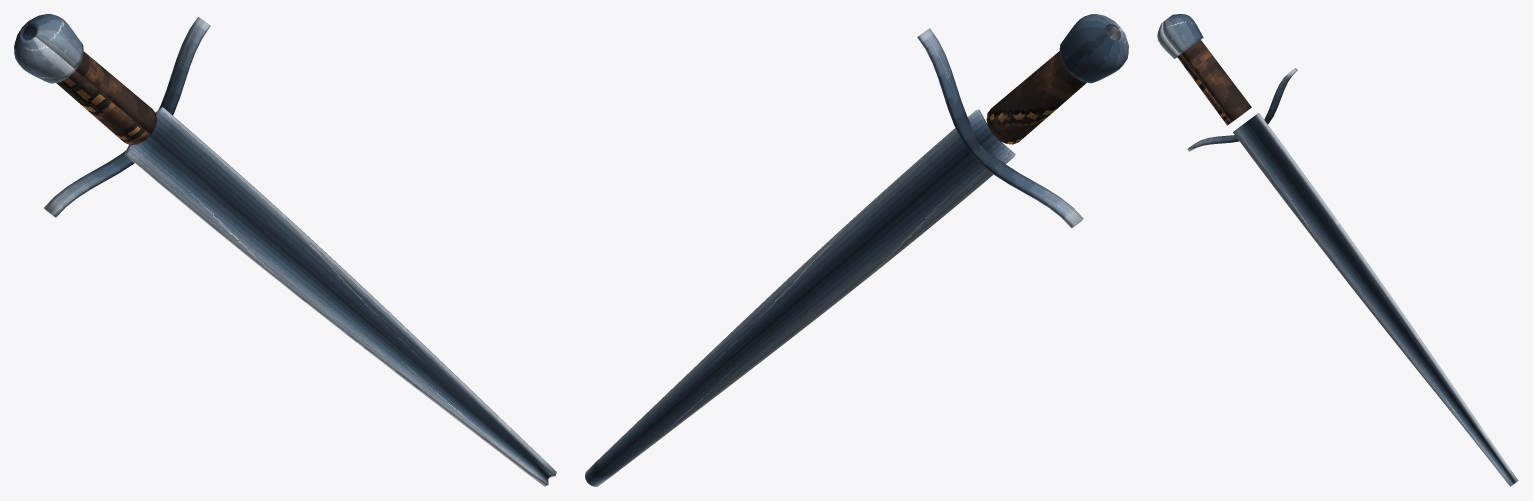
File: sword.glb
The picture shows the model from 3 angles, left to right: view 1: azimuth 30°, elevation 25°; view 2: azimuth 150°, elevation 25°; view 3: azimuth 330°, elevation 25°; orthographic projection. The views are drawn at different scales.
Parts seen in each view (by area): view 1: sword__Way_steel, sword__Way_leather; view 2: sword__Way_steel, sword__Way_leather; view 3: sword__Way_steel, sword__Way_leather.
Part boxes in pixels (x1,y1,x2,y2): sword__Way_steel: [14, 14, 556, 486]; sword__Way_leather: [56, 51, 156, 144]; sword__Way_steel: [585, 14, 1128, 486]; sword__Way_leather: [986, 51, 1086, 144]; sword__Way_steel: [1157, 14, 1518, 486]; sword__Way_leather: [1177, 40, 1251, 125].
Size of the model in its own units: 0.5955 by 0.6239 by 0.0576.
2 materials, 2 textured.
